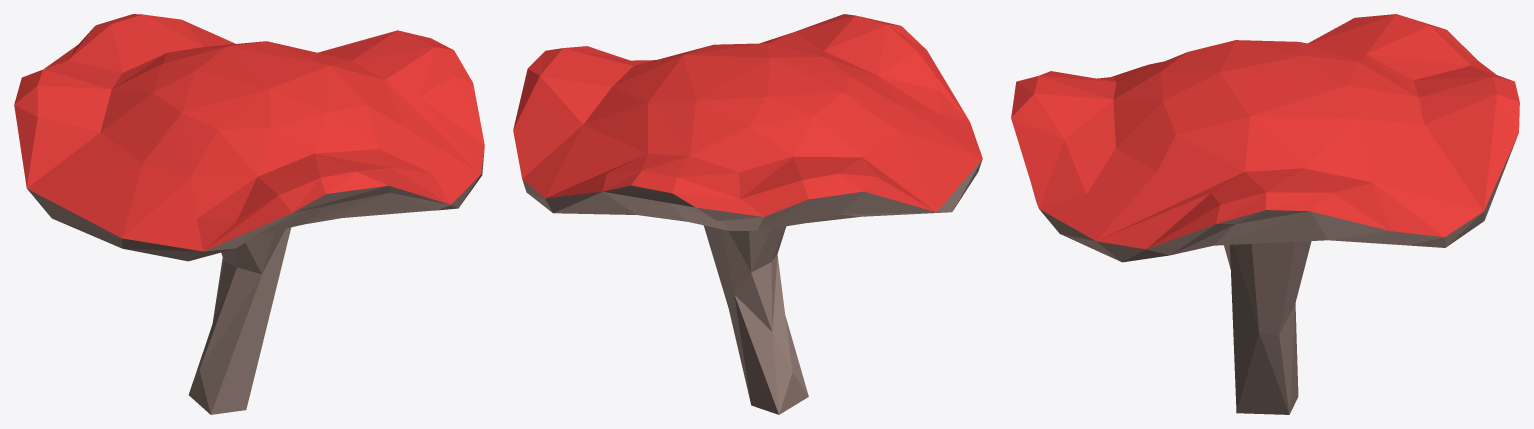
File: fantasy_plant_074.fbx
3 views of the same model, side by side, from view 1: azimuth 30°, elevation 25°; view 2: azimuth 150°, elevation 25°; view 3: azimuth 270°, elevation 25° (orthographic). The views are drawn at different scales.
Visible parts, largest first — view 1: fantasy_plant.074; view 2: fantasy_plant.074; view 3: fantasy_plant.074.
Part boxes in pixels (x1,y1,x2,y2): fantasy_plant.074: (14,14,484,414); fantasy_plant.074: (513,14,982,414); fantasy_plant.074: (1011,14,1519,414).
Bounding box in the file's own units: 489 × 368 × 485.
Materials: 1 (1 with a texture image).
